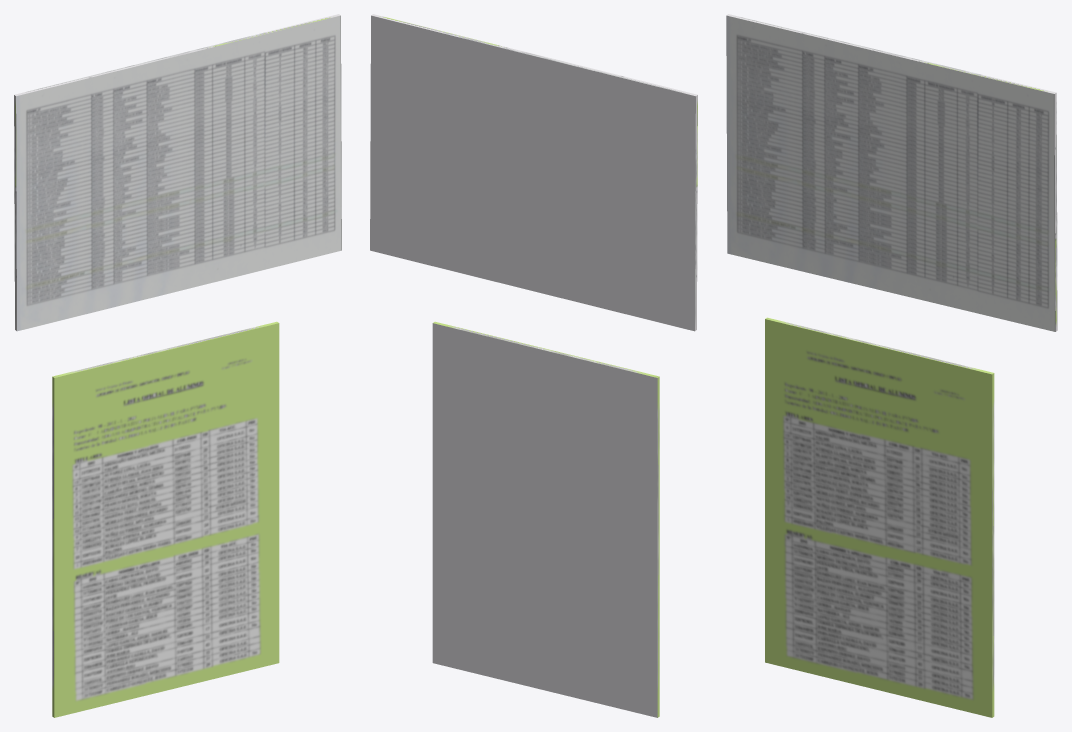
The model's file is Texts.FBX.
The picture shows the model from 3 angles, left to right: view 1: azimuth 30°, elevation 25°; view 2: azimuth 150°, elevation 25°; view 3: azimuth 330°, elevation 25°; orthographic projection.
Visible parts, largest first — view 1: Text 2, Text 1; view 2: Text 2, Text 1; view 3: Text 2, Text 1.
Part boxes in pixels (x1=…): Text 2: x1=52, y1=321, x2=279, y2=717; Text 1: x1=14, y1=14, x2=341, y2=331; Text 2: x1=432, y1=321, x2=659, y2=717; Text 1: x1=370, y1=14, x2=697, y2=331; Text 2: x1=765, y1=317, x2=994, y2=717; Text 1: x1=726, y1=14, x2=1057, y2=331.
Bounding box in the file's own units: 342 × 3.75 × 635.
1 material, 1 textured.
